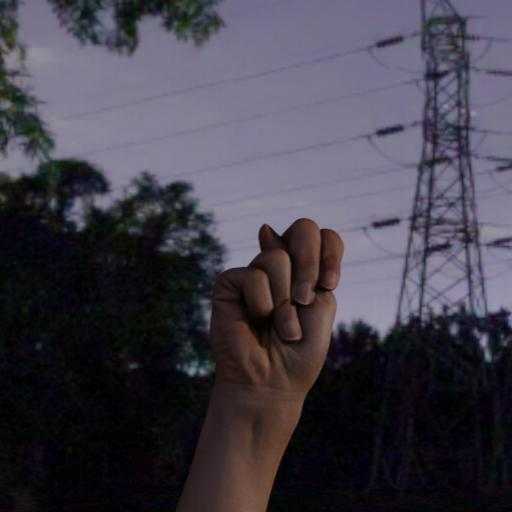N: (184, 212, 354, 512)
